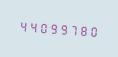eight: (77, 21, 86, 38)
four: (27, 17, 36, 35), (17, 17, 26, 34)
nine: (57, 19, 66, 37), (47, 19, 56, 36)
seven: (67, 20, 76, 38)
zero: (37, 18, 46, 36), (87, 22, 96, 39)
